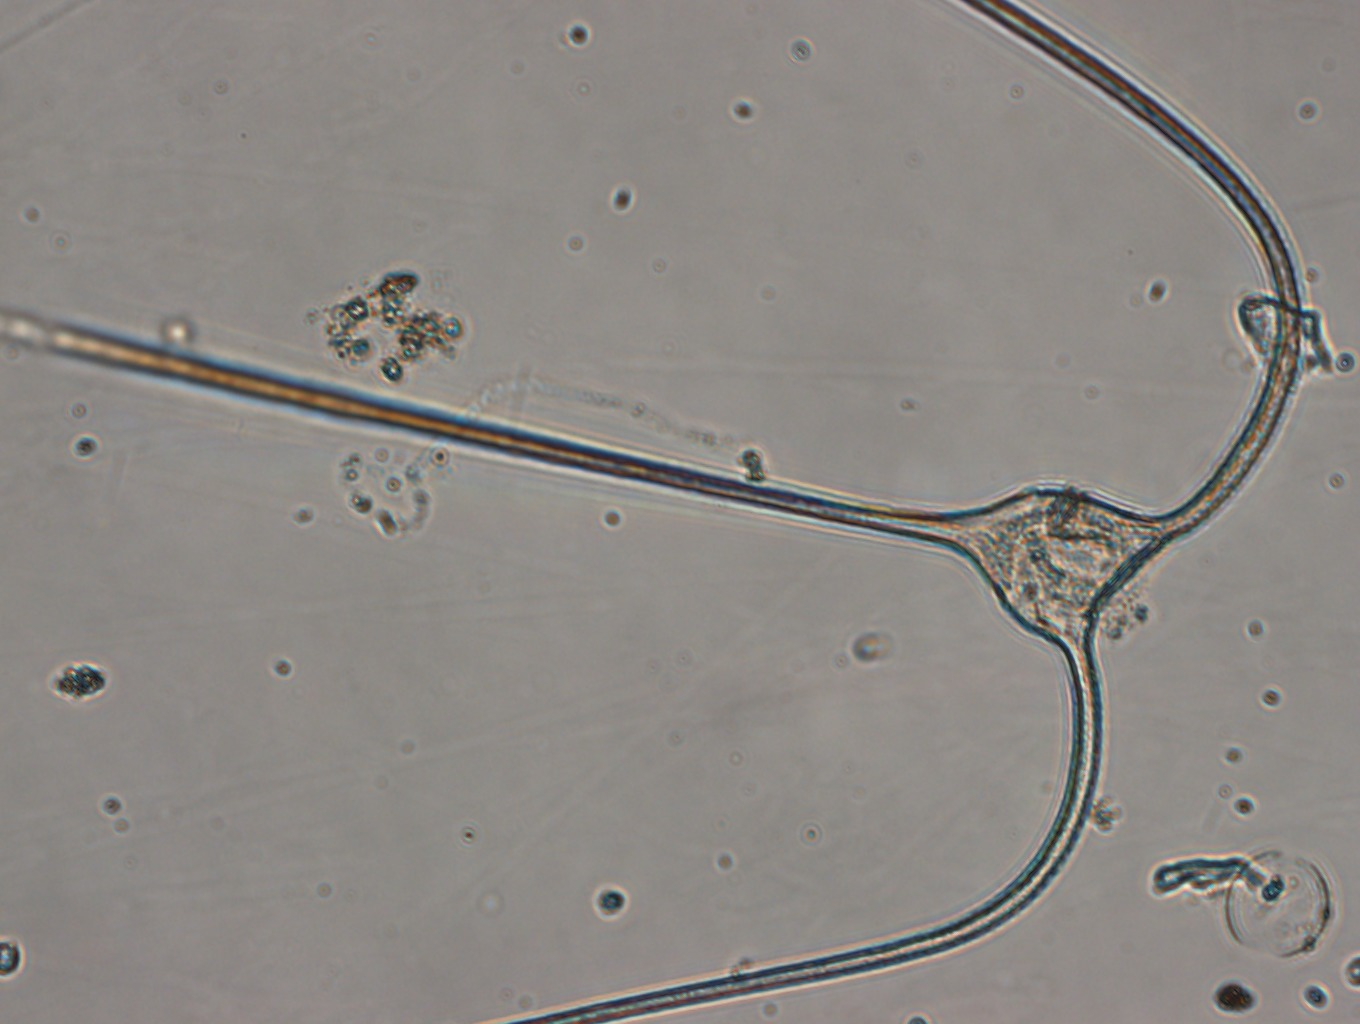ceratium trichoceros: (16, 15, 1329, 1024)
